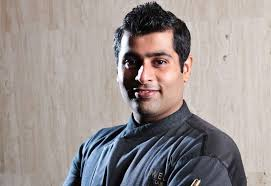middle_eastern_male: (115, 18, 191, 118)
